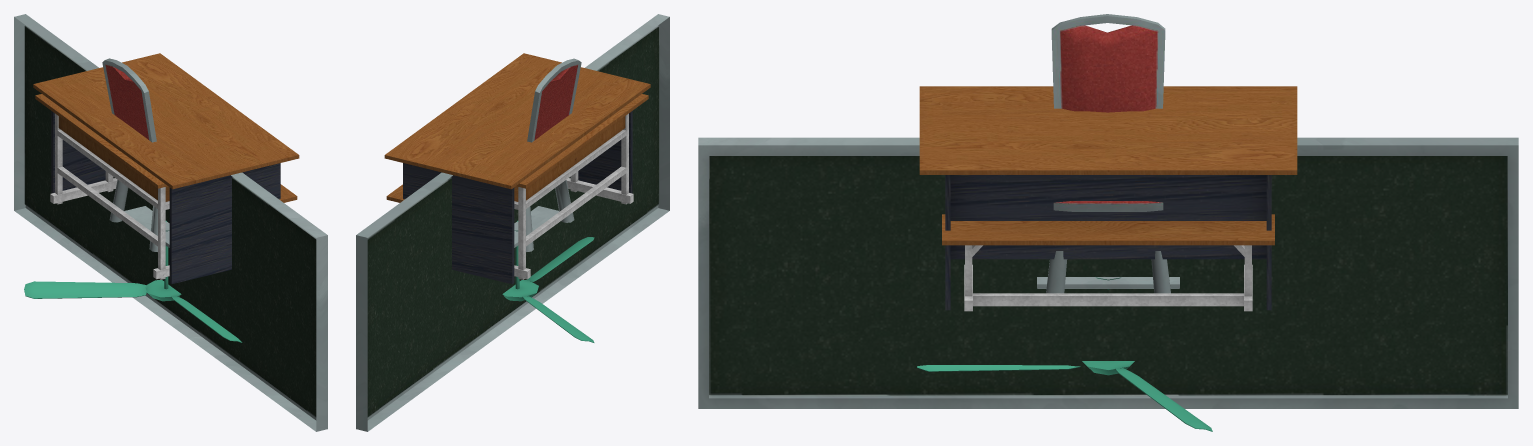
The model's file is Class Stuffs.fbx.
3 renders of one model, left to right at view 1: azimuth 30°, elevation 25°; view 2: azimuth 150°, elevation 25°; view 3: azimuth 270°, elevation 25°, orthographic. The views are drawn at different scales.
Visible parts, largest first — view 1: board, table_teacher, table_sinhvien, chair_teacher, blade, ceilinglight; view 2: board, table_teacher, table_sinhvien, chair_teacher, blade, ceilinglight; view 3: board, table_teacher, table_sinhvien, chair_teacher, blade, ceilinglight.
Part boxes in pixels (left/top/right/bottom): board: left=14, top=14, right=327, bottom=431; table_teacher: left=33, top=53, right=299, bottom=284; table_sinhvien: left=35, top=94, right=297, bottom=279; chair_teacher: left=102, top=58, right=157, bottom=251; blade: left=24, top=280, right=242, bottom=342; ceilinglight: left=124, top=206, right=169, bottom=247; board: left=356, top=14, right=669, bottom=431; table_teacher: left=384, top=53, right=650, bottom=284; table_sinhvien: left=386, top=94, right=648, bottom=279; chair_teacher: left=526, top=58, right=581, bottom=251; blade: left=502, top=237, right=594, bottom=342; ceilinglight: left=514, top=206, right=558, bottom=247; board: left=698, top=137, right=1518, bottom=408; table_teacher: left=919, top=86, right=1297, bottom=310; table_sinhvien: left=942, top=214, right=1274, bottom=311; chair_teacher: left=1046, top=14, right=1170, bottom=293; blade: left=917, top=361, right=1212, bottom=431; ceilinglight: left=1037, top=277, right=1179, bottom=288.
Bounding box in the file's own units: 1.9 × 2.22 × 4.58.
Materials: 2 (1 with a texture image).
